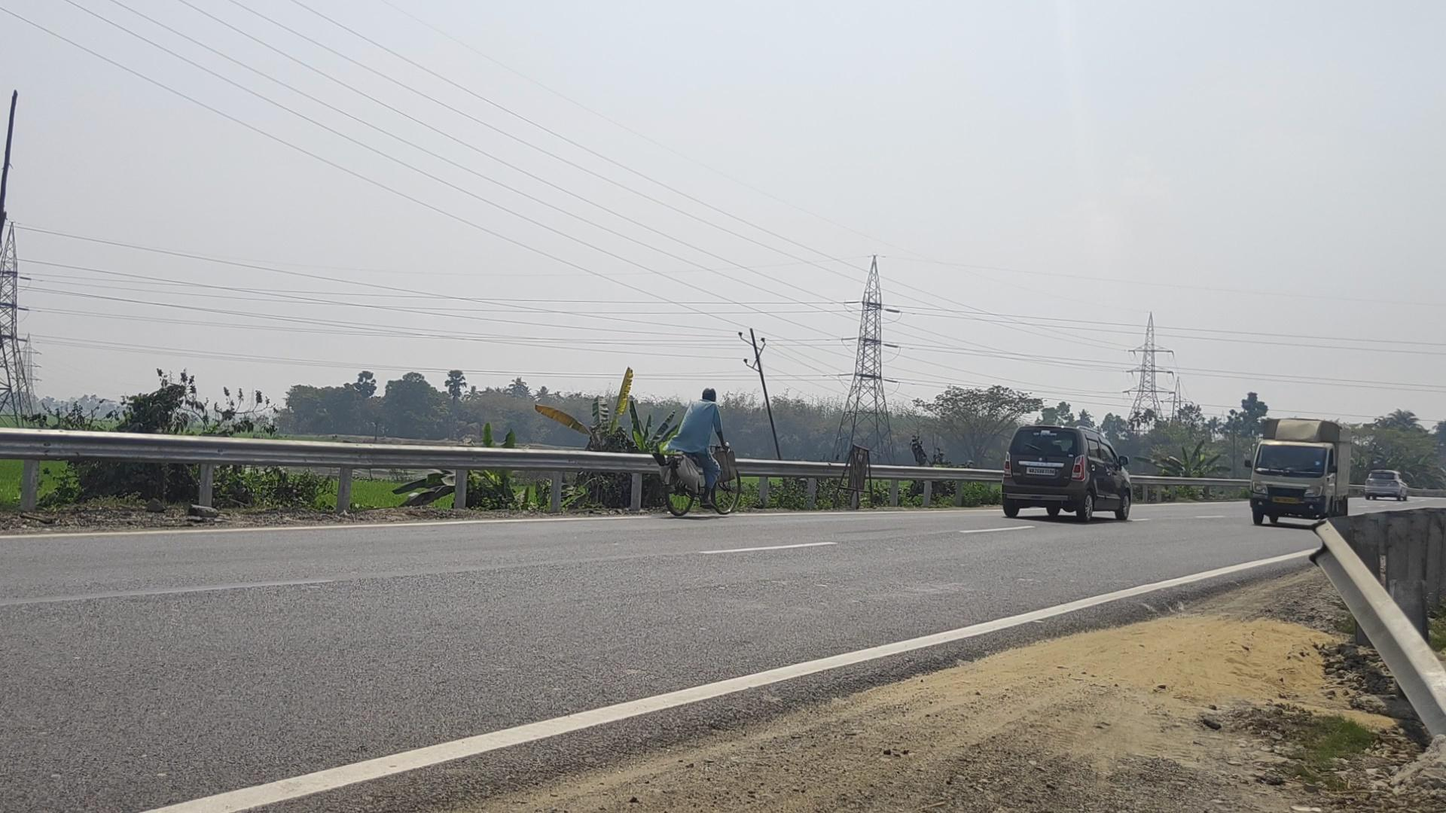bike: (652, 388, 740, 517)
car: (1002, 425, 1132, 525), (1364, 469, 1409, 501)
van: (1244, 418, 1350, 530)
